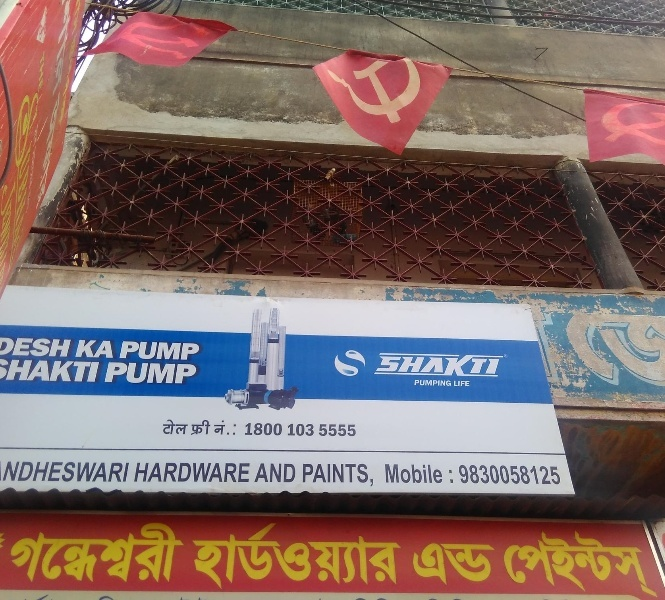text: (17, 3, 32, 305), (33, 3, 48, 305), (49, 3, 64, 305), (65, 3, 80, 305), (81, 3, 96, 305), (10, 3, 16, 305), (353, 54, 368, 134), (369, 54, 384, 134), (385, 54, 400, 134), (401, 54, 416, 134), (417, 54, 432, 134), (577, 309, 592, 388), (593, 309, 608, 388), (609, 309, 624, 388), (625, 309, 640, 388), (641, 309, 656, 388), (209, 521, 224, 591), (225, 521, 240, 591), (241, 521, 256, 591), (257, 521, 272, 591), (273, 521, 288, 591), (289, 521, 304, 591), (305, 521, 320, 591), (321, 521, 336, 591), (337, 521, 352, 591), (353, 521, 368, 591), (369, 521, 384, 591), (385, 521, 400, 591), (33, 519, 48, 586), (49, 519, 64, 586), (65, 519, 80, 586), (81, 519, 96, 586), (97, 519, 112, 586), (113, 519, 128, 586), (129, 519, 144, 586), (145, 519, 160, 586), (161, 519, 176, 586), (97, 3, 100, 305), (145, 12, 160, 72), (161, 12, 176, 72), (177, 12, 192, 72), (193, 12, 208, 72), (209, 12, 224, 72), (513, 534, 528, 593), (529, 534, 544, 593), (545, 534, 560, 593), (561, 534, 576, 593), (577, 534, 592, 593), (593, 534, 608, 593), (609, 534, 624, 593), (625, 534, 640, 593), (641, 534, 656, 593), (565, 309, 576, 388), (130, 12, 144, 72), (609, 100, 624, 155), (625, 100, 640, 155), (641, 100, 656, 155), (20, 519, 32, 586), (417, 542, 432, 585), (433, 542, 448, 585), (449, 542, 464, 585), (465, 542, 480, 585), (177, 519, 186, 586), (200, 521, 208, 591), (481, 542, 494, 585), (657, 309, 664, 388), (657, 100, 665, 155), (385, 352, 400, 379), (401, 352, 416, 379), (417, 352, 432, 379), (433, 352, 448, 379), (449, 352, 464, 379), (465, 352, 480, 379), (481, 352, 496, 379), (1, 358, 16, 385), (17, 358, 32, 385), (33, 358, 48, 385), (49, 358, 64, 385), (65, 358, 80, 385), (81, 358, 96, 385), (225, 12, 231, 72), (305, 464, 320, 487), (321, 464, 336, 487), (337, 464, 352, 487), (353, 464, 368, 487), (1, 336, 16, 359), (17, 336, 32, 359), (33, 336, 48, 359), (49, 336, 64, 359), (465, 465, 480, 487), (481, 465, 496, 487), (497, 465, 512, 487), (513, 465, 528, 487), (529, 465, 544, 487), (545, 465, 560, 487), (433, 54, 437, 134), (113, 363, 128, 384), (129, 363, 144, 384), (145, 363, 160, 384), (161, 363, 176, 384), (177, 363, 192, 384), (81, 339, 96, 360), (97, 339, 112, 360), (273, 463, 288, 483), (129, 341, 144, 361), (145, 341, 160, 361), (161, 341, 176, 361), (177, 341, 192, 361), (17, 462, 32, 482), (33, 462, 48, 482), (49, 462, 64, 482), (65, 462, 80, 482), (81, 462, 96, 482), (97, 462, 112, 482), (113, 462, 128, 482), (145, 464, 160, 483), (161, 464, 176, 483), (177, 464, 192, 483), (193, 464, 208, 483), (209, 464, 224, 483), (225, 464, 240, 483), (401, 466, 416, 484), (417, 466, 432, 484), (259, 463, 272, 483), (177, 419, 192, 436), (193, 419, 208, 436), (209, 419, 224, 436), (386, 466, 400, 484), (257, 422, 272, 437), (273, 422, 288, 437), (289, 422, 304, 437), (305, 422, 320, 437), (321, 422, 336, 437), (337, 422, 352, 437), (604, 100, 608, 155), (401, 521, 404, 591), (164, 419, 176, 436), (193, 341, 203, 361), (433, 466, 444, 484), (450, 471, 464, 484), (412, 542, 416, 585), (245, 422, 256, 437), (97, 358, 103, 385), (65, 336, 72, 359), (8, 462, 16, 482), (350, 54, 352, 134), (457, 465, 464, 487), (241, 464, 249, 483), (497, 352, 502, 379), (137, 464, 144, 483), (289, 463, 295, 483), (122, 341, 128, 361), (510, 534, 512, 593), (369, 464, 374, 487), (380, 352, 384, 379), (233, 424, 240, 437), (417, 380, 432, 386), (433, 380, 448, 386), (225, 419, 230, 436), (108, 363, 112, 384), (454, 381, 464, 388), (193, 363, 196, 384), (113, 339, 116, 360), (353, 422, 357, 437), (465, 381, 471, 388), (78, 339, 80, 360), (449, 380, 453, 386), (561, 465, 562, 487), (129, 462, 130, 482), (415, 380, 416, 386)
